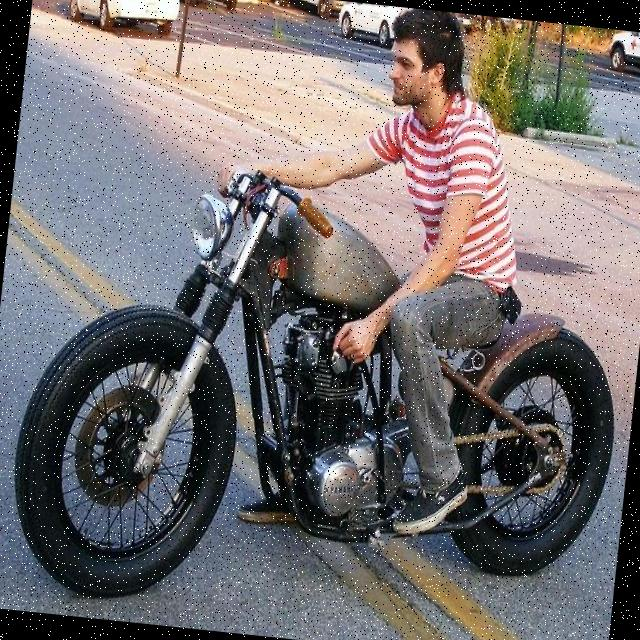No helmet: (376, 10, 482, 128)
